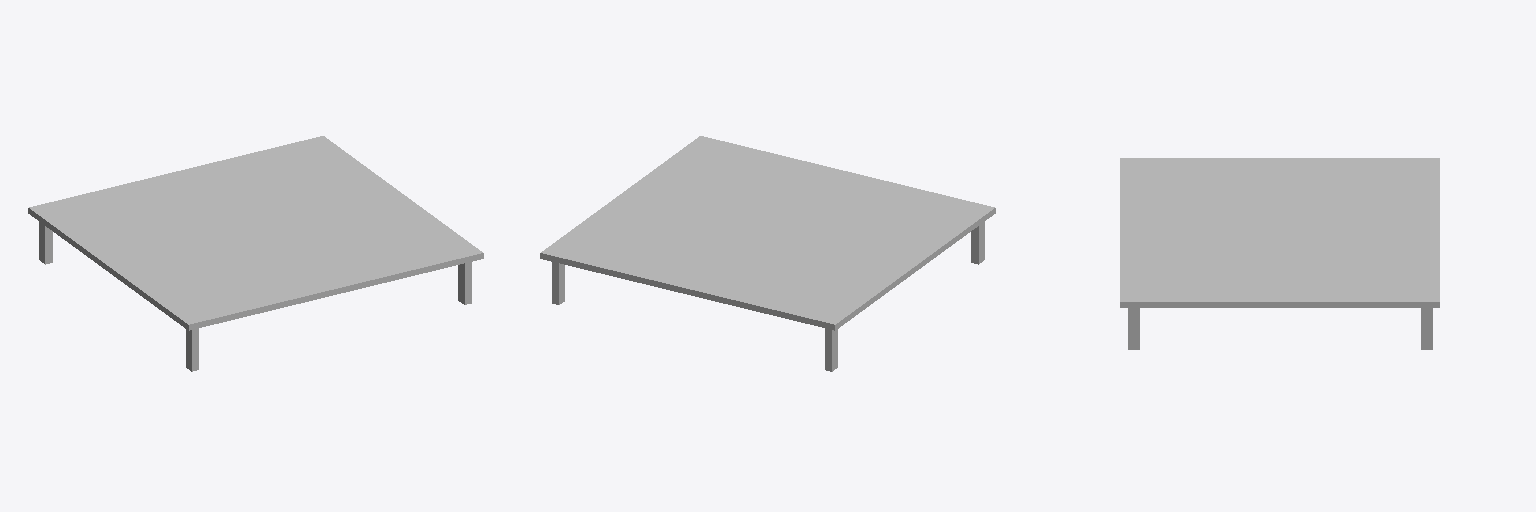
File: container_tuopan_empty.obj
3 views of the same model, side by side, from view 1: azimuth 30°, elevation 25°; view 2: azimuth 150°, elevation 25°; view 3: azimuth 270°, elevation 25° (orthographic).
Visible parts, largest first — view 1: 立方体.1; view 2: 立方体.1; view 3: 立方体.1.
Boxes of the visible parts, x1=… form: 立方体.1: x1=28, y1=136, x2=483, y2=371; 立方体.1: x1=540, y1=136, x2=995, y2=371; 立方体.1: x1=1120, y1=158, x2=1439, y2=349.
Size of the model in its own units: 62.98 by 10.5 by 59.22.